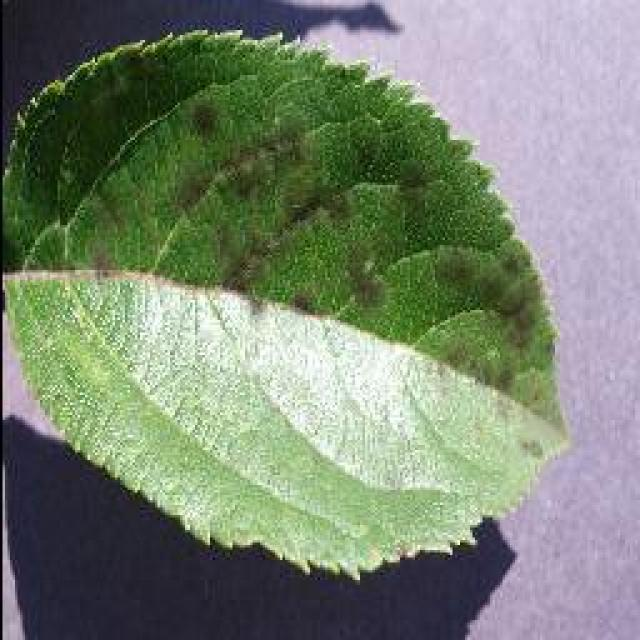apple scab disease: (0, 25, 572, 580)
